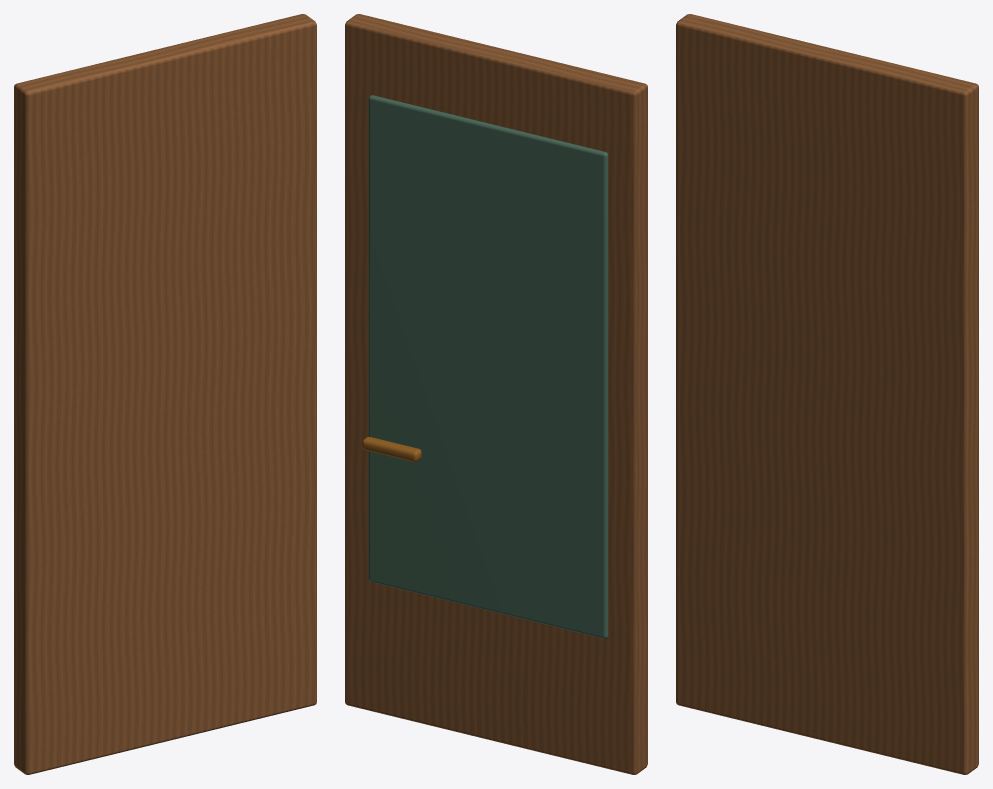
The model's file is wide_door.glb.
3 views of the same model, side by side, from view 1: azimuth 30°, elevation 25°; view 2: azimuth 150°, elevation 25°; view 3: azimuth 330°, elevation 25° (orthographic).
Parts seen in each view (by area): view 1: V2_wide_door_oak.005; view 2: V2_wide_door_sage.005, V2_wide_door_oak.005, V2_wide_door_brass.005; view 3: V2_wide_door_oak.005.
Part boxes in pixels (x1,y1,x2,y2): V2_wide_door_oak.005: [14, 14, 316, 774]; V2_wide_door_sage.005: [368, 95, 608, 638]; V2_wide_door_oak.005: [345, 14, 647, 774]; V2_wide_door_brass.005: [362, 437, 421, 461]; V2_wide_door_oak.005: [676, 14, 978, 774].
Bounding box in the file's own units: 1.1 × 2.46 × 0.1775.
Materials: 3 (1 with a texture image).
